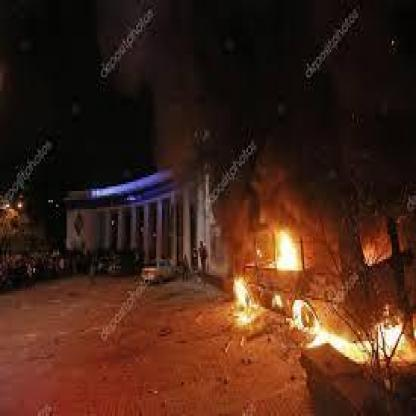fire: (218, 207, 410, 380)
